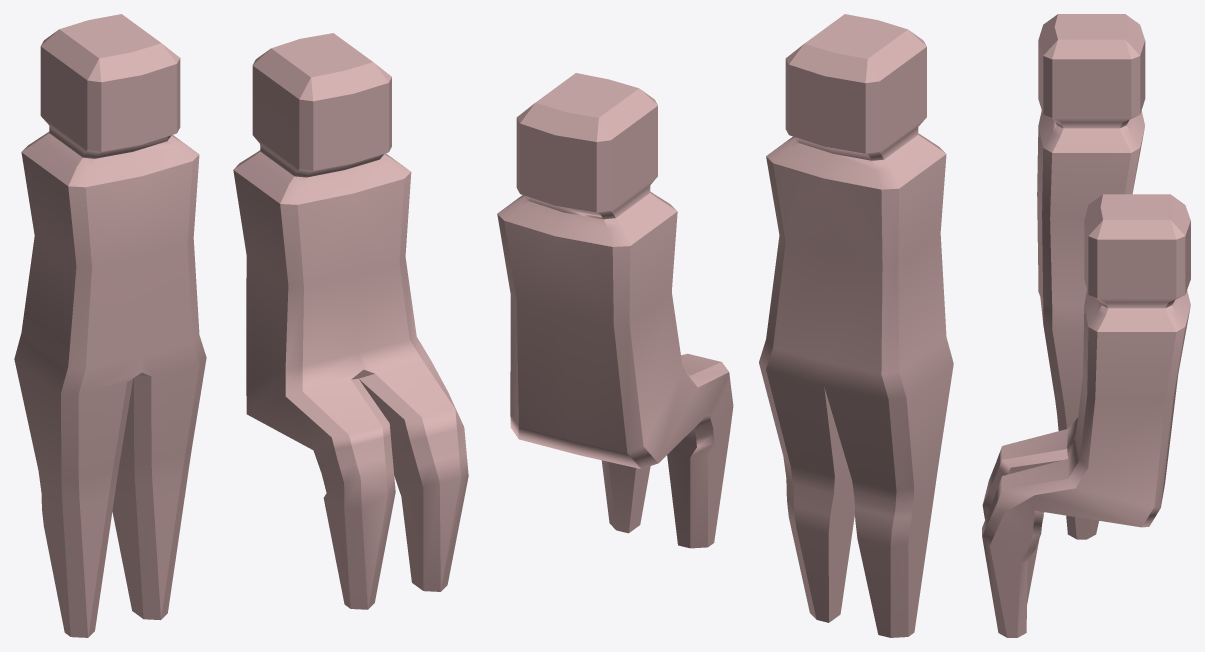
The model's file is CharacterModel_PlaceHolder_Standing_And_Sitting.fbx.
3 views of the same model, side by side, from view 1: azimuth 30°, elevation 25°; view 2: azimuth 150°, elevation 25°; view 3: azimuth 270°, elevation 25° (orthographic). The views are drawn at different scales.
Parts seen in each view (by area): view 1: PlaceHolderPerson_1_Body, PlaceHolderPerson_2_Body, PlaceHolderPerson_1_Head, PlaceHolderPerson_2_Head; view 2: PlaceHolderPerson_1_Body, PlaceHolderPerson_2_Body, PlaceHolderPerson_1_Head, PlaceHolderPerson_2_Head; view 3: PlaceHolderPerson_2_Body, PlaceHolderPerson_1_Body, PlaceHolderPerson_1_Head, PlaceHolderPerson_2_Head.
Boxes of the visible parts, x1,y1,x2,y2 form: PlaceHolderPerson_1_Body: [14, 132, 206, 637]; PlaceHolderPerson_2_Body: [233, 150, 468, 609]; PlaceHolderPerson_1_Head: [40, 14, 180, 158]; PlaceHolderPerson_2_Head: [252, 33, 391, 177]; PlaceHolderPerson_1_Body: [759, 133, 953, 637]; PlaceHolderPerson_2_Body: [497, 191, 733, 548]; PlaceHolderPerson_1_Head: [785, 14, 926, 160]; PlaceHolderPerson_2_Head: [516, 73, 657, 219]; PlaceHolderPerson_2_Body: [982, 290, 1190, 637]; PlaceHolderPerson_1_Body: [1037, 110, 1144, 539]; PlaceHolderPerson_1_Head: [1038, 14, 1145, 128]; PlaceHolderPerson_2_Head: [1084, 194, 1190, 308].
Bounding box in the file's own units: 12.34 × 17.88 × 6.87.
